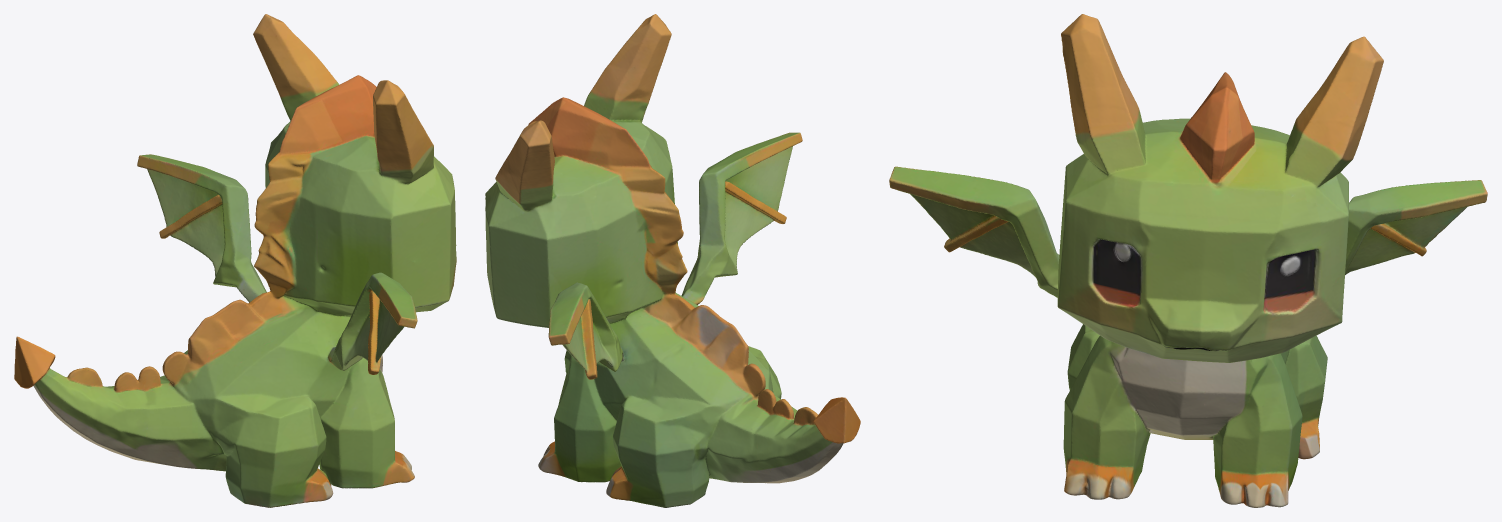
File: dragon_small.glb
The picture shows the model from 3 angles, left to right: view 1: azimuth 30°, elevation 25°; view 2: azimuth 150°, elevation 25°; view 3: azimuth 270°, elevation 25°; orthographic projection. The views are drawn at different scales.
Parts seen in each view (by area): view 1: tripo_node_9992cb17-f29d-4d0b-b1bc-8a80276abbfe; view 2: tripo_node_9992cb17-f29d-4d0b-b1bc-8a80276abbfe; view 3: tripo_node_9992cb17-f29d-4d0b-b1bc-8a80276abbfe.
Boxes of the visible parts, x1,y1,x2,y2 form: tripo_node_9992cb17-f29d-4d0b-b1bc-8a80276abbfe: (14, 14, 456, 507); tripo_node_9992cb17-f29d-4d0b-b1bc-8a80276abbfe: (485, 14, 860, 507); tripo_node_9992cb17-f29d-4d0b-b1bc-8a80276abbfe: (889, 14, 1487, 507).
Bounding box in the file's own units: 0.8921 × 0.8775 × 1.
1 material, 1 textured.
